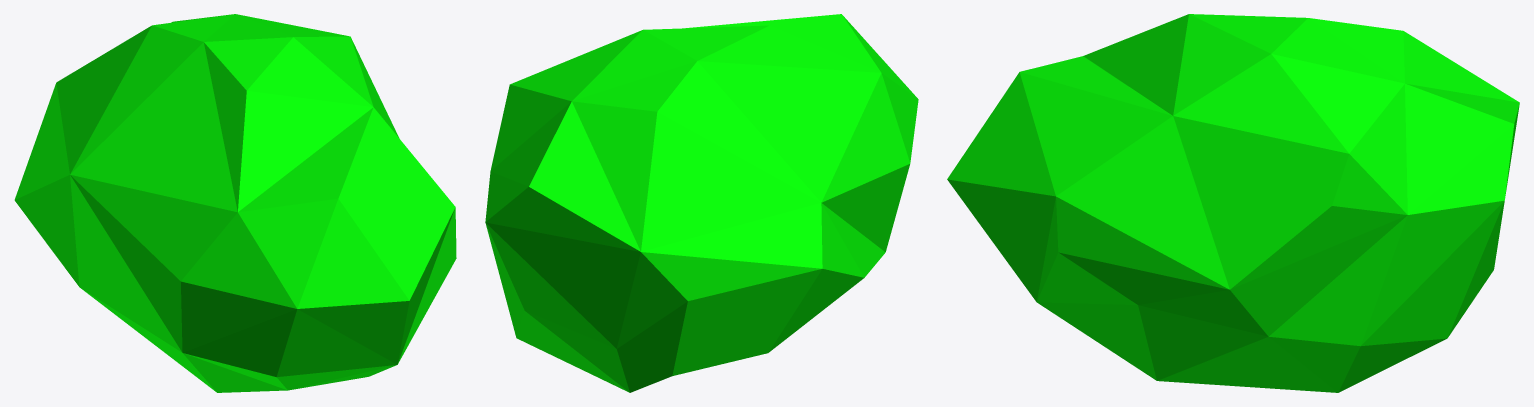
File: SM_Bush_01.fbx
3 views of the same model, side by side, from view 1: azimuth 30°, elevation 25°; view 2: azimuth 150°, elevation 25°; view 3: azimuth 270°, elevation 25° (orthographic). The views are drawn at different scales.
Parts seen in each view (by area): view 1: Bush_01; view 2: Bush_01; view 3: Bush_01.
Part boxes in pixels (box(x1,y1,x2,y2)): Bush_01: box(14, 14, 456, 392); Bush_01: box(485, 14, 918, 392); Bush_01: box(947, 14, 1519, 392).
Size of the model in its own units: 526 by 494 by 733.
